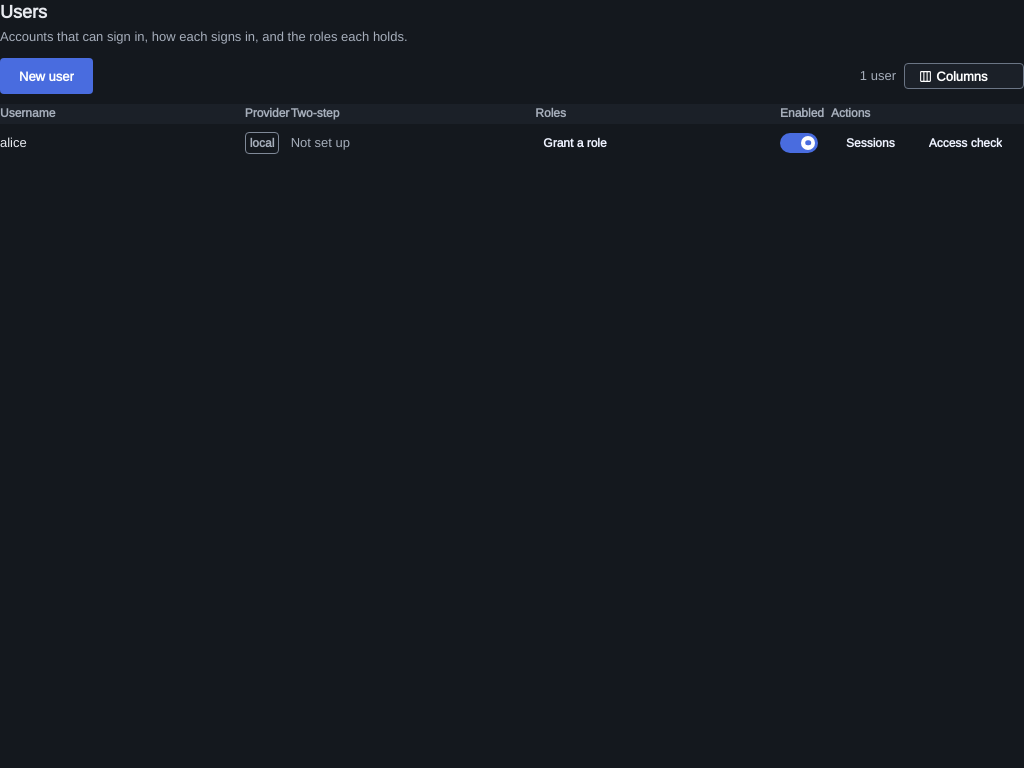
Test case: the sessions drawer of a user › says what to do when the administrator may not end sessions
Click the button with aria-label "Sessions of alice": coordinates (870, 143) [831,128,910,158]
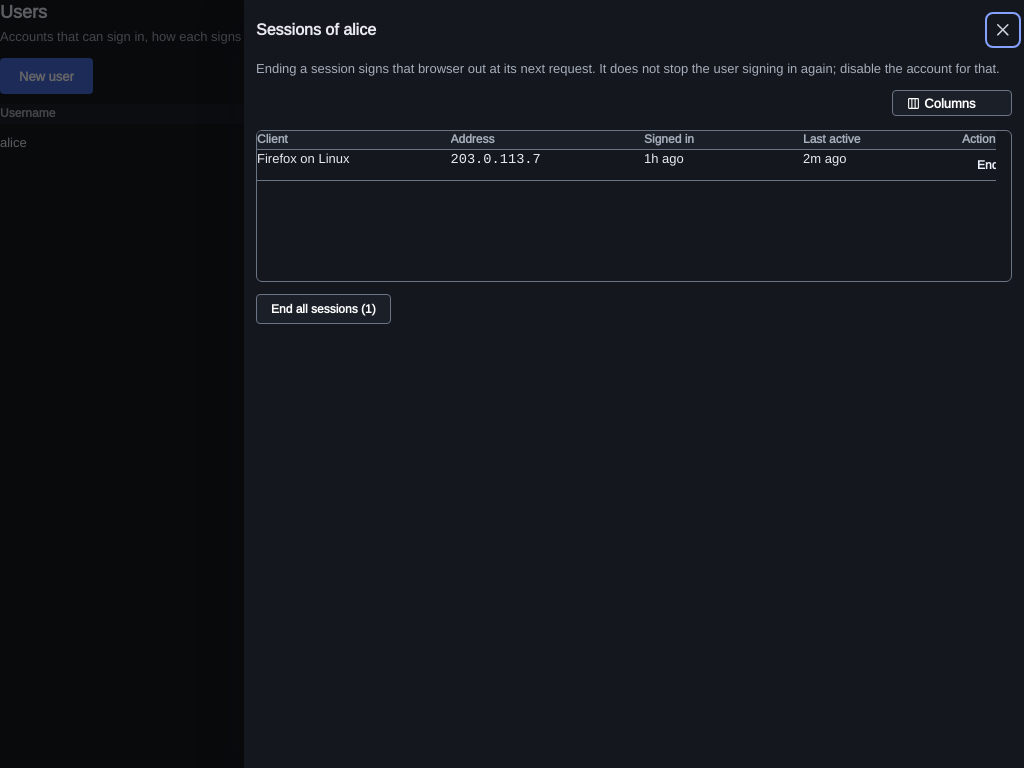
Click the button with aria-label "End Firefox on Linux": coordinates (988, 165) [962,150,1013,180]
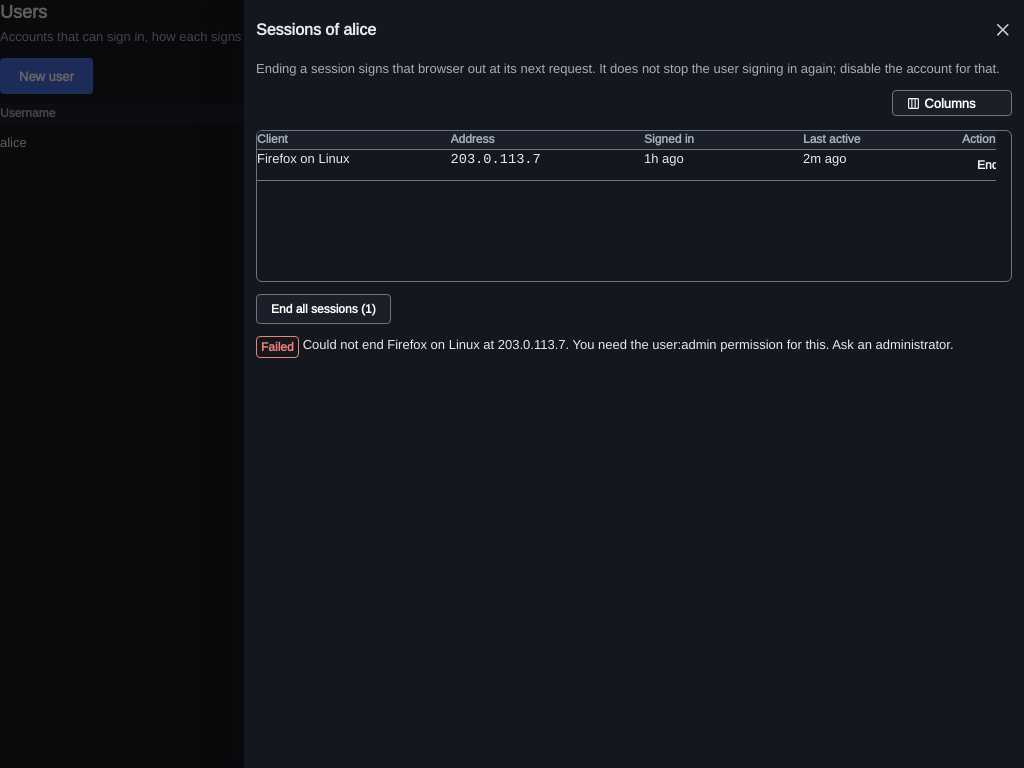
Check: the text "Could not end Firefox on Linux at 203.0.113.7. You need the user:admin permission for this. Ask an administrator." is shown, box [303,336,954,353]
